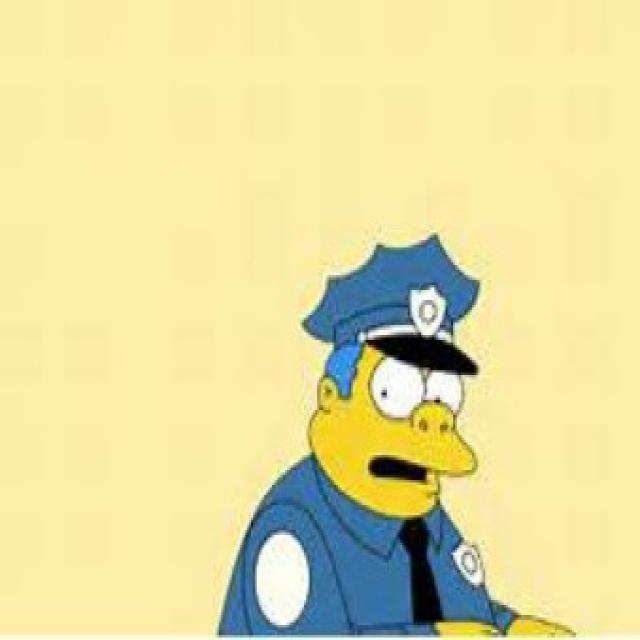Chief Wiggam: (298, 232, 476, 518)
